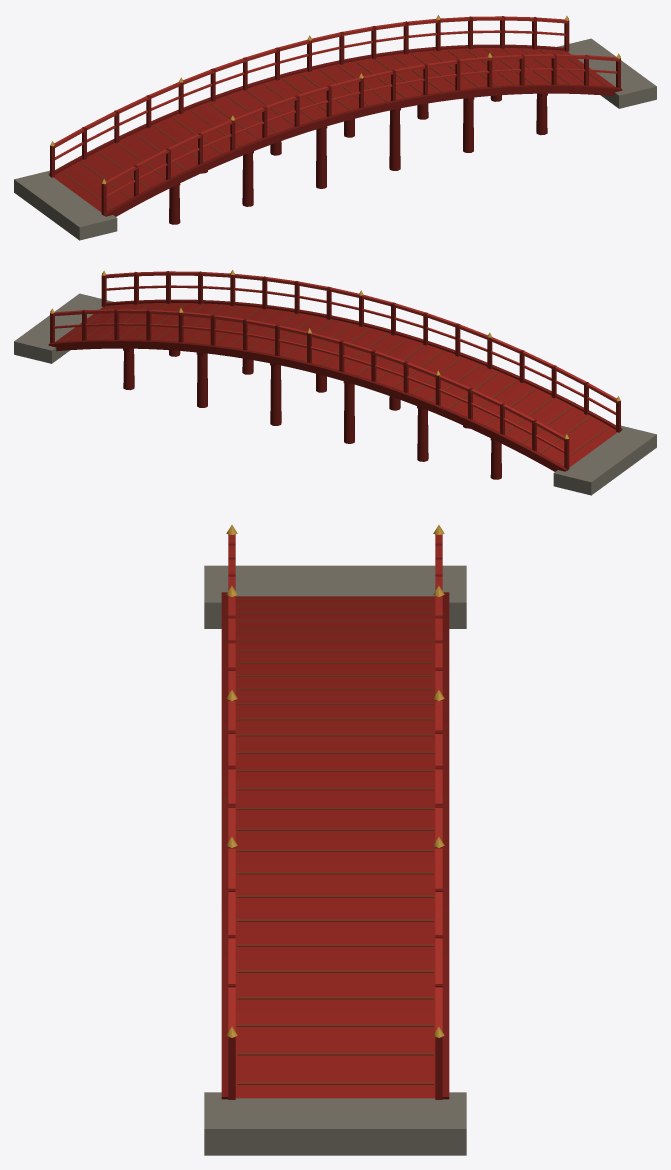
Rendered from huc_bridge.glb.
3 renders of one model, top to bottom at view 1: azimuth 30°, elevation 25°; view 2: azimuth 150°, elevation 25°; view 3: azimuth 270°, elevation 25°, orthographic. The views are drawn at different scales.
Visible parts, largest first — view 1: HucBridge_mat0; view 2: HucBridge_mat0; view 3: HucBridge_mat0.
Part boxes in pixels (bbox=[...]): HucBridge_mat0: bbox=[14, 15, 656, 240]; HucBridge_mat0: bbox=[14, 270, 656, 495]; HucBridge_mat0: bbox=[204, 525, 466, 1155].
Bounding box in the file's own units: 18.3 × 3.24 × 3.6.
